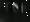person: (23, 4, 27, 14), (15, 4, 19, 13)
